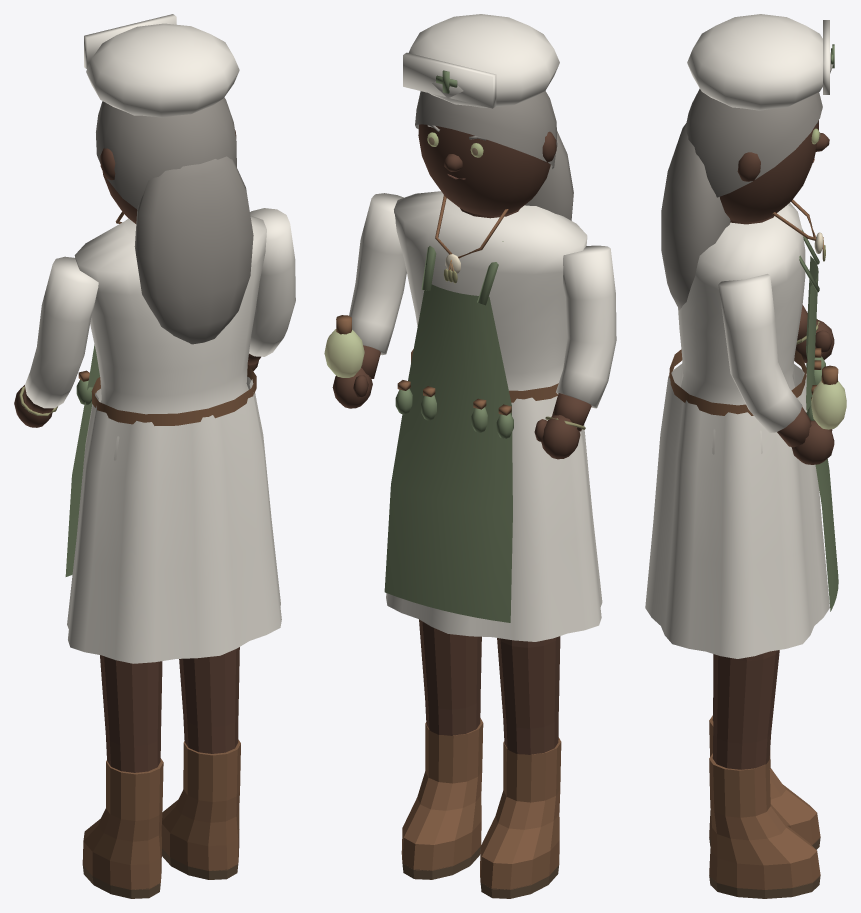
The model's file is SM_NPC_NIEVE.glb.
The picture shows the model from 3 angles, left to right: view 1: azimuth 30°, elevation 25°; view 2: azimuth 150°, elevation 25°; view 3: azimuth 270°, elevation 25°; orthographic projection.
Visible parts, largest first — view 1: SM_NPC_NIEVE_BODY, SM_NPC_NIEVE_HAIR, SM_NPC_NIEVE_LEG_L, SM_NPC_NIEVE_LEG_R, SM_NPC_NIEVE_ARM_L, SM_NPC_NIEVE_ARM_R, SM_NPC_NIEVE_HEAD; view 2: SM_NPC_NIEVE_BODY, SM_NPC_NIEVE_HAIR, SM_NPC_NIEVE_LEG_L, SM_NPC_NIEVE_LEG_R, SM_NPC_NIEVE_ARM_L, SM_NPC_NIEVE_ARM_R, SM_NPC_NIEVE_HEAD; view 3: SM_NPC_NIEVE_BODY, SM_NPC_NIEVE_HAIR, SM_NPC_NIEVE_LEG_R, SM_NPC_NIEVE_ARM_R, SM_NPC_NIEVE_HEAD, SM_NPC_NIEVE_LEG_L, SM_NPC_NIEVE_ARM_L.
Boxes of the visible parts, <box> form: SM_NPC_NIEVE_BODY: <box>65,212,281,663</box>; SM_NPC_NIEVE_HAIR: <box>84,14,253,344</box>; SM_NPC_NIEVE_LEG_L: <box>82,655,163,898</box>; SM_NPC_NIEVE_LEG_R: <box>161,647,240,879</box>; SM_NPC_NIEVE_ARM_L: <box>14,256,98,427</box>; SM_NPC_NIEVE_ARM_R: <box>247,208,295,370</box>; SM_NPC_NIEVE_HEAD: <box>100,130,236,223</box>; SM_NPC_NIEVE_BODY: <box>384,191,602,641</box>; SM_NPC_NIEVE_HAIR: <box>403,14,573,220</box>; SM_NPC_NIEVE_LEG_L: <box>480,636,561,898</box>; SM_NPC_NIEVE_LEG_R: <box>401,619,483,879</box>; SM_NPC_NIEVE_ARM_L: <box>534,245,616,459</box>; SM_NPC_NIEVE_ARM_R: <box>324,193,406,408</box>; SM_NPC_NIEVE_HEAD: <box>418,124,556,215</box>; SM_NPC_NIEVE_BODY: <box>645,199,838,658</box>; SM_NPC_NIEVE_HAIR: <box>661,14,834,310</box>; SM_NPC_NIEVE_LEG_R: <box>709,650,820,898</box>; SM_NPC_NIEVE_ARM_R: <box>718,274,846,464</box>; SM_NPC_NIEVE_HEAD: <box>720,120,829,222</box>; SM_NPC_NIEVE_LEG_L: <box>709,654,820,849</box>; SM_NPC_NIEVE_ARM_L: <box>795,305,834,363</box>.
Bounding box in the file's own units: 0.5578 × 1.76 × 0.3829.
